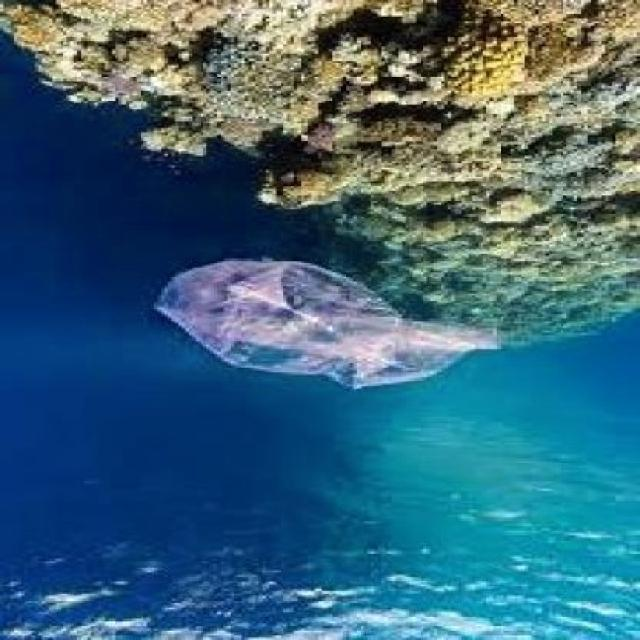pbag: (147, 258, 507, 391)
